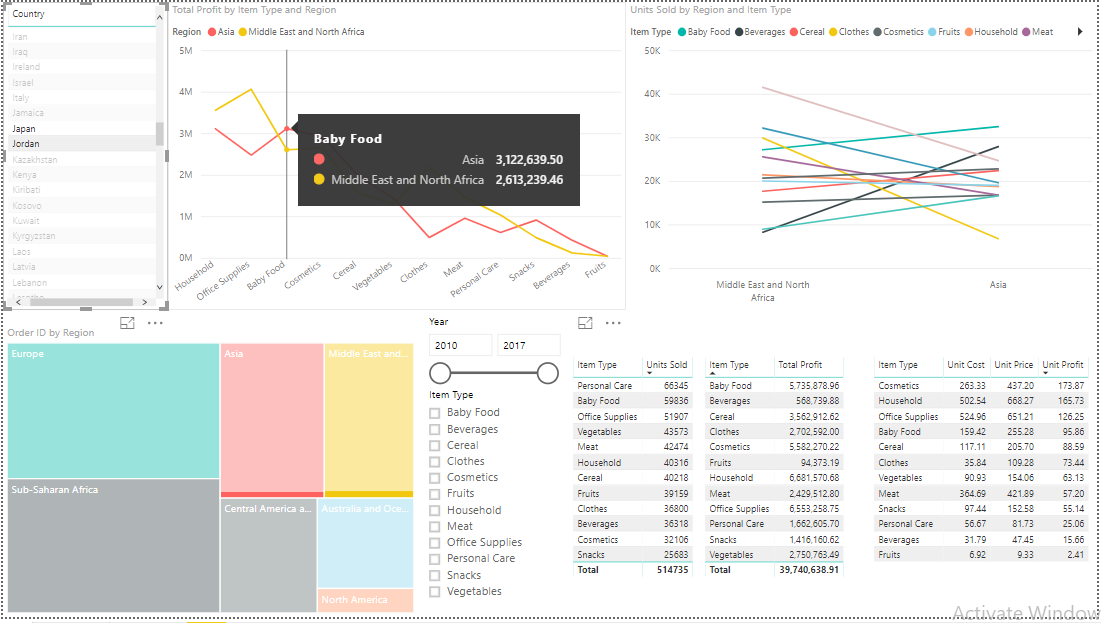

The dashboard page shown, as its layout file describes it:
{"tool":"powerbi","page":{"name":"Page 1","canvas":[1280,720],"ordinal":1},"visuals":[{"type":"lineChart","fields":{"Y":["Sum(Sales Records.Units Sold)"],"Category":["Sales Records.Item Type"],"Series":["Sales Records.Country"]},"box":[729.1,0,550.9,360.6],"z":2},{"type":"tableEx","fields":{"Values":["Sales Records.Item Type","Sum(Sales Records.Units Sold)"]},"box":[661.3,411.1,154.3,270.1],"z":3},{"type":"treemap","fields":{"Group":["Sales Records.Region"],"Values":["CountNonNull(Sales Records.Order ID)"]},"box":[0,377.9,485.7,342],"z":4},{"type":"lineChart","fields":{"Y":["Sum(Sales Records.Total Profit)"],"Category":["Sales Records.Item Type"],"Series":["Sales Records.Country"]},"box":[193.2,0,536.2,360.6],"z":5},{"type":"tableEx","fields":{"Values":["Sales Records.Item Type","Sum(Sales Records.Total Profit)"]},"box":[816,410.9,188.5,270.4],"z":6},{"type":"tableEx","fields":{"Values":["Sales Records.Item Type","Sales Records.Unit Cost","Sales Records.Unit Price","Sales Records.Unit Profit"]},"box":[1013.9,411.1,266.1,267.4],"z":6},{"type":"slicer","fields":{"Values":["Sales Records.Item Type"]},"box":[486,446,129.4,274],"z":7},{"type":"tableEx","fields":{"Values":["Sales Records.Country"]},"box":[0,0,192.9,360.6],"z":8},{"type":"slicer","fields":{"Values":["Sales Records.Order Date.Variation.Date Hierarchy.Year"]},"box":[485.7,360.6,175.6,99.8],"z":9}]}

Visuals, with their boxes on the page's 1280x720 design canvas (x1, y1, x2, y2). These are canvas units, not pixel positions in the 1101x623 screenshot, which may show the page scaled, cropped or inside an application window:
lineChart - Sum(Sales Records.Units Sold) x Sales Records.Item Type: {"left": 729, "top": 0, "right": 1280, "bottom": 361}
tableEx - Sales Records.Item Type x Sum(Sales Records.Units Sold): {"left": 661, "top": 411, "right": 816, "bottom": 681}
treemap - Sales Records.Region x CountNonNull(Sales Records.Order ID): {"left": 0, "top": 378, "right": 486, "bottom": 720}
lineChart - Sum(Sales Records.Total Profit) x Sales Records.Item Type: {"left": 193, "top": 0, "right": 729, "bottom": 361}
tableEx - Sales Records.Item Type x Sum(Sales Records.Total Profit): {"left": 816, "top": 411, "right": 1004, "bottom": 681}
tableEx - Sales Records.Item Type x Sales Records.Unit Cost: {"left": 1014, "top": 411, "right": 1280, "bottom": 678}
slicer - Sales Records.Item Type: {"left": 486, "top": 446, "right": 615, "bottom": 720}
tableEx - Sales Records.Country: {"left": 0, "top": 0, "right": 193, "bottom": 361}
slicer - Sales Records.Order Date.Variation.Date Hierarchy.Year: {"left": 486, "top": 361, "right": 661, "bottom": 460}
